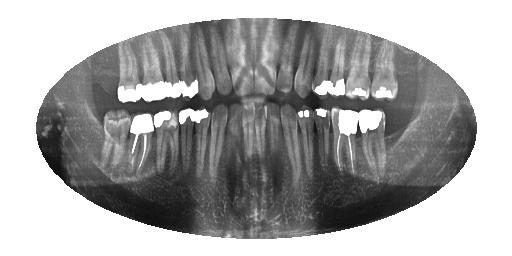Fillings: (345, 37, 375, 101), (359, 107, 387, 174), (370, 42, 399, 102), (115, 44, 142, 106), (153, 109, 177, 173), (141, 42, 164, 103), (179, 34, 198, 99), (193, 107, 210, 174), (313, 107, 331, 169), (313, 35, 330, 96), (331, 32, 346, 98), (180, 108, 194, 174), (166, 35, 180, 100)
Implant: (331, 106, 360, 170), (127, 113, 155, 172)
